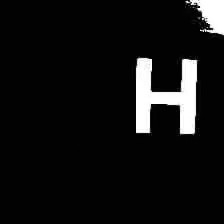LTR_H: (122, 51, 206, 142)
